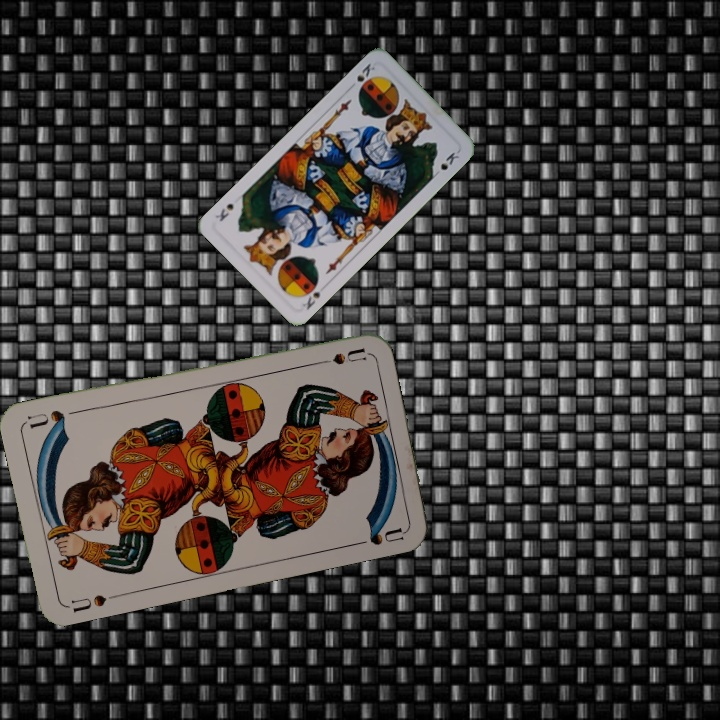SK: (296, 277, 330, 312), (353, 59, 378, 84)
SU: (308, 343, 367, 368), (63, 590, 109, 615)
